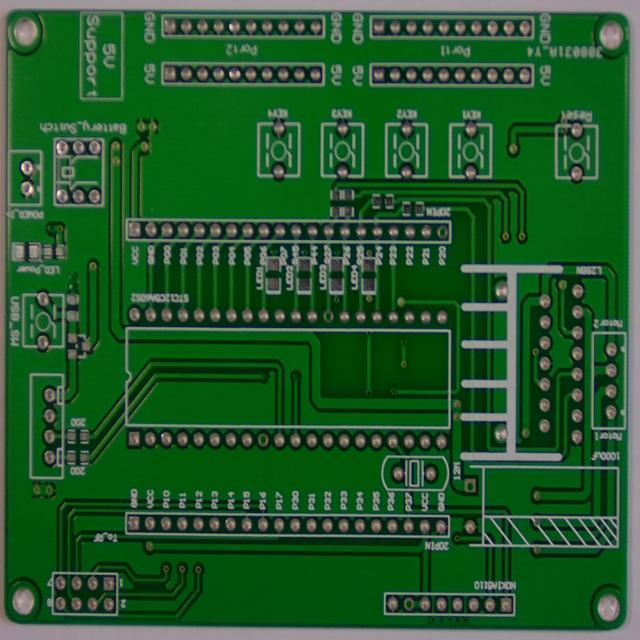missing_hole: (400, 594, 415, 614), (255, 431, 271, 449), (321, 306, 335, 325), (464, 477, 478, 495), (435, 223, 449, 240)
